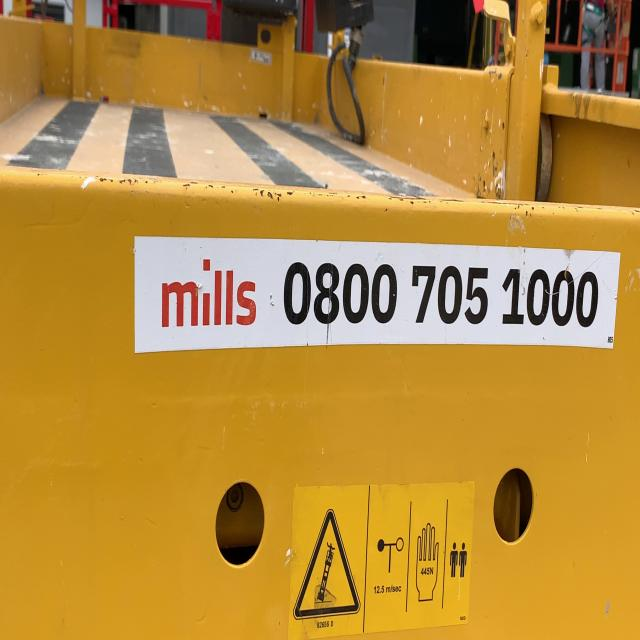Adesivo Longo: (133, 233, 625, 357)
